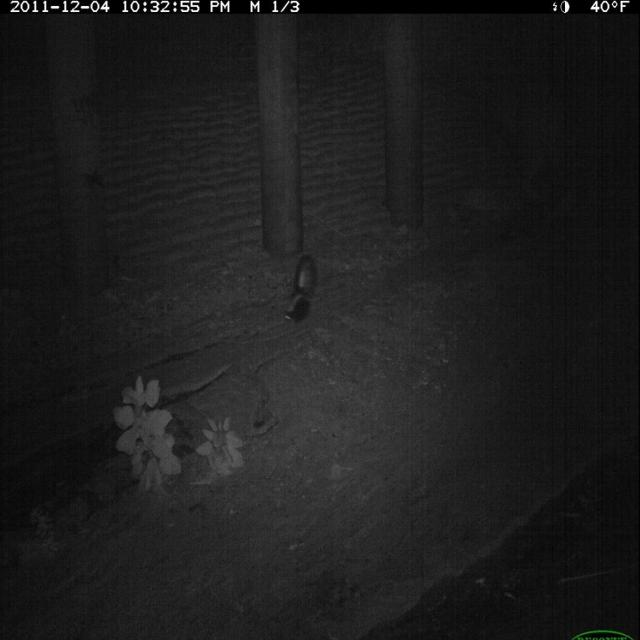skunk: (280, 248, 325, 329)
